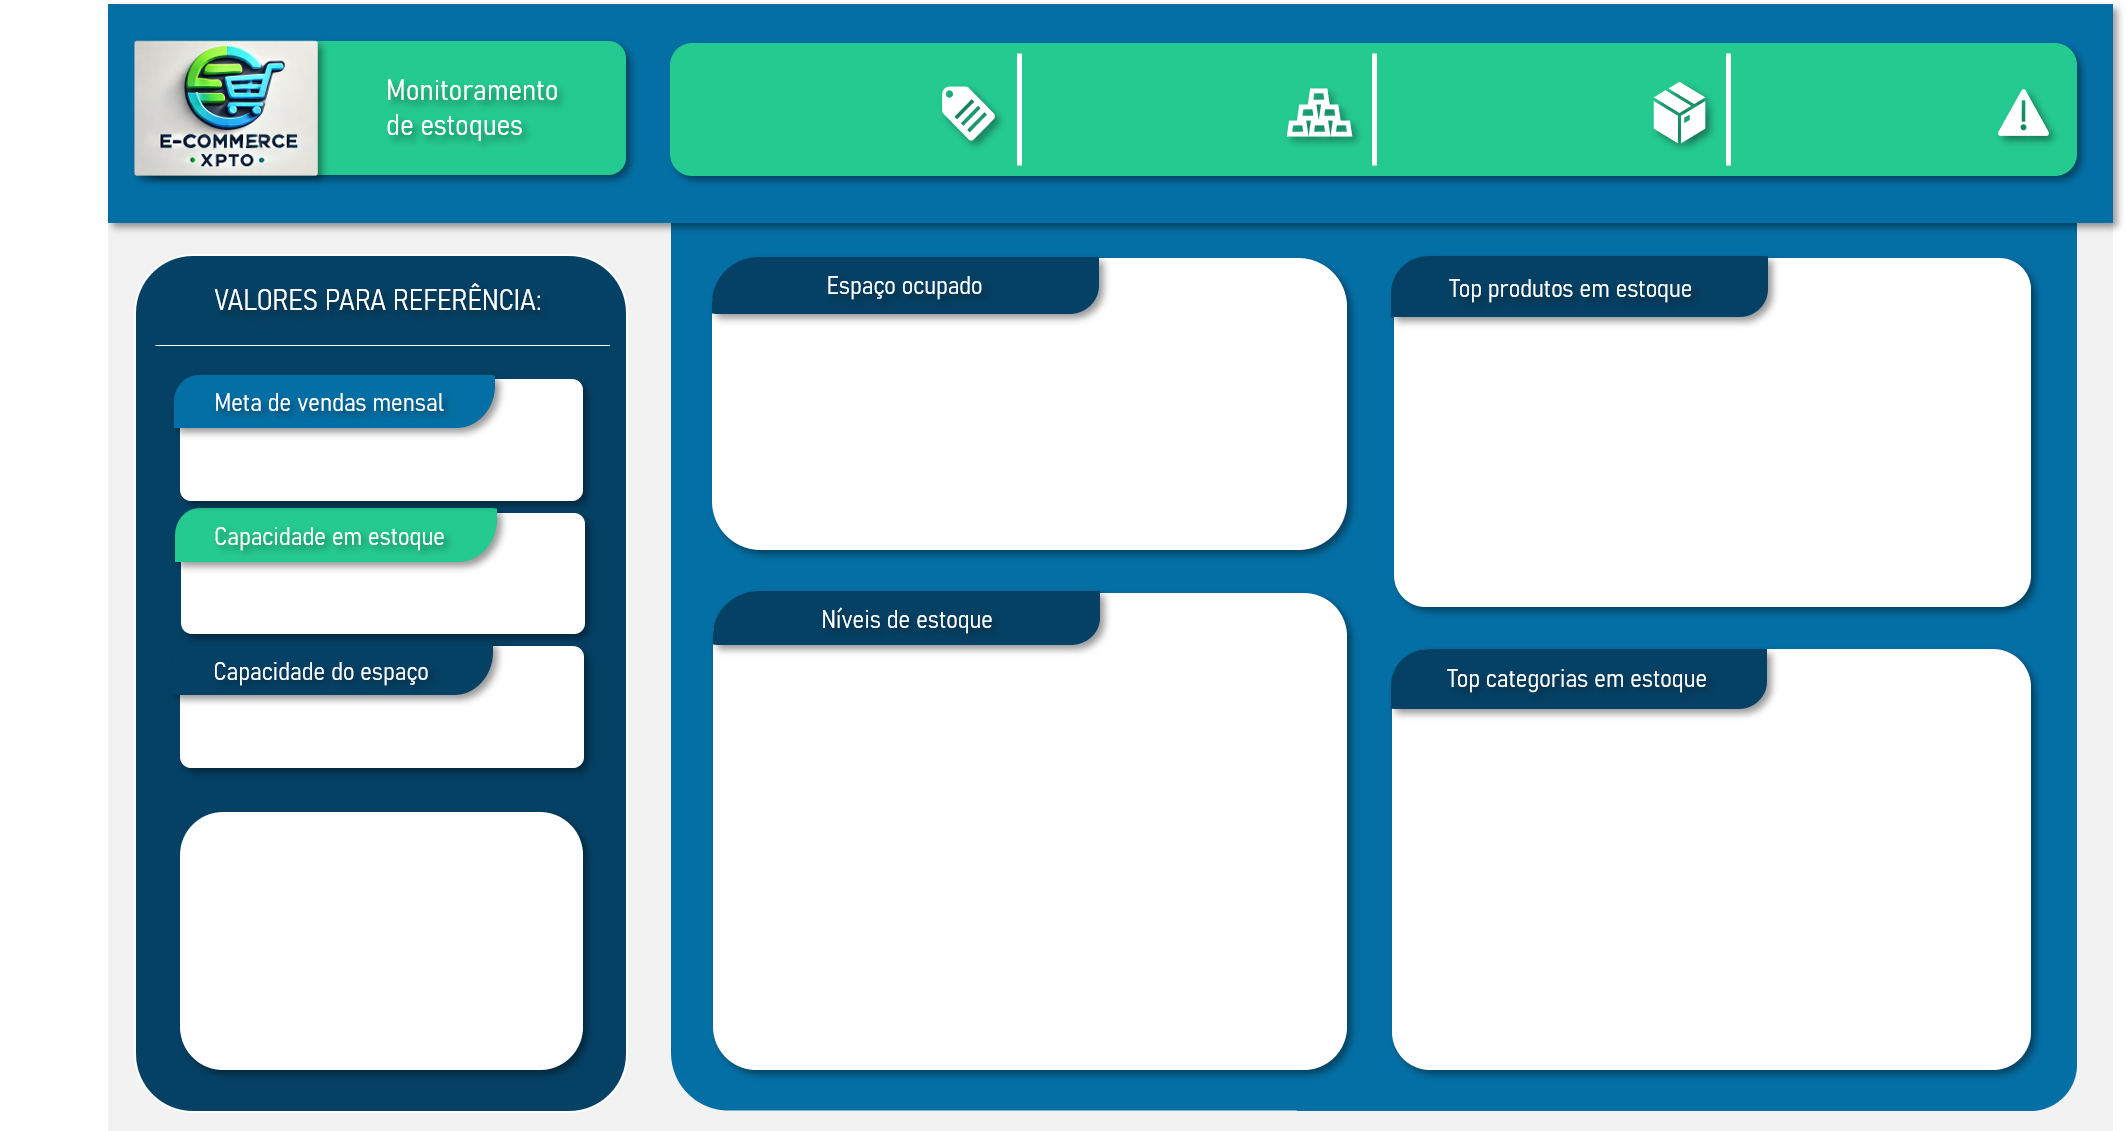

The page's visual inventory and layout, read from the dashboard file:
{"tool":"powerbi","page":{"name":"Página 1","canvas":[1280,720],"ordinal":0},"visuals":[{"type":"donutChart","fields":{"Category":["Sheet1.nivel_estoque"],"Y":["CountNonNull(Sheet1.nivel_estoque)"]},"box":[366.8,407.9,497.5,280.8],"z":0},{"type":"barChart","fields":{"Category":["Sheet1.categoria"],"Y":["Sum(Sheet1.custo_total)"]},"box":[866.7,464.8,348.6,199.7],"z":1000},{"type":"barChart","fields":{"Category":["Sheet1.descricao"],"Y":["Sum(Sheet1.custo_total)"]},"box":[858.2,202.2,372.8,181.6],"z":2000},{"type":"gauge","fields":{"Y":["Sum(Sheet1.espaco_ocupado)"],"MaxValue":["Max(Sheet1.espaco_disponivel)"]},"box":[487.8,226.4,243.3,104.1],"z":3000},{"type":"card","fields":{"Values":["CountNonNull(Sheet1.estoque_atual)"]},"box":[1030.1,20.6,185.2,92],"z":4000},{"type":"card","fields":{"Values":["CountNonNull(Sheet1.estoque_atual)"]},"box":[828,20.6,174.3,92],"z":5000},{"type":"card","fields":{"Values":["Sum(Sheet1.custo_total)"]},"box":[606.5,20.6,174.3,92],"z":6000},{"type":"card","fields":{"Values":["Max(Sheet1.indicador_potencial)"]},"box":[397,20.6,174.3,92],"z":7000},{"type":"card","fields":{"Values":["Max(Sheet1.meta_de_vendas)"]},"box":[84.2,248.9,278.3,91.9],"z":8000},{"type":"card","fields":{"Values":["Max(Sheet1.potencial_do_espaco_disponivel)"]},"box":[84.2,417.4,278.3,91.9],"z":9000},{"type":"card","fields":{"Values":["Max(Sheet1.potencial_do_espaco_ocupado)"]},"box":[84.2,334.4,278.3,90.6],"z":10000},{"type":"gauge","fields":{"MaxValue":["Max(Sheet1.potencial_do_espaco_disponivel)"],"Y":["Max(Sheet1.potencial_do_espaco_ocupado)"],"TargetValue":["Max(Sheet1.meta_de_vendas)"]},"box":[124.7,502.4,222.7,190],"z":11000}]}

Visuals, with their boxes on the page's 1280x720 design canvas (x1, y1, x2, y2). These are canvas units, not pixel positions in the 2126x1131 screenshot, which may show the page scaled, cropped or inside an application window:
donutChart - Sheet1.nivel_estoque x CountNonNull(Sheet1.nivel_estoque): rect(367, 408, 864, 689)
barChart - Sheet1.categoria x Sum(Sheet1.custo_total): rect(867, 465, 1215, 664)
barChart - Sheet1.descricao x Sum(Sheet1.custo_total): rect(858, 202, 1231, 384)
gauge - Sum(Sheet1.espaco_ocupado) x Max(Sheet1.espaco_disponivel): rect(488, 226, 731, 330)
card - CountNonNull(Sheet1.estoque_atual): rect(1030, 21, 1215, 113)
card - CountNonNull(Sheet1.estoque_atual): rect(828, 21, 1002, 113)
card - Sum(Sheet1.custo_total): rect(606, 21, 781, 113)
card - Max(Sheet1.indicador_potencial): rect(397, 21, 571, 113)
card - Max(Sheet1.meta_de_vendas): rect(84, 249, 362, 341)
card - Max(Sheet1.potencial_do_espaco_disponivel): rect(84, 417, 362, 509)
card - Max(Sheet1.potencial_do_espaco_ocupado): rect(84, 334, 362, 425)
gauge - Max(Sheet1.potencial_do_espaco_disponivel) x Max(Sheet1.potencial_do_espaco_ocupado): rect(125, 502, 347, 692)
